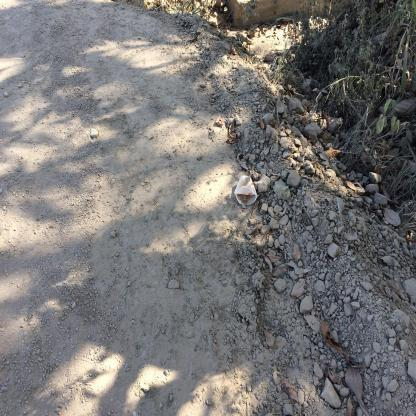karton: (235, 177, 258, 207)
